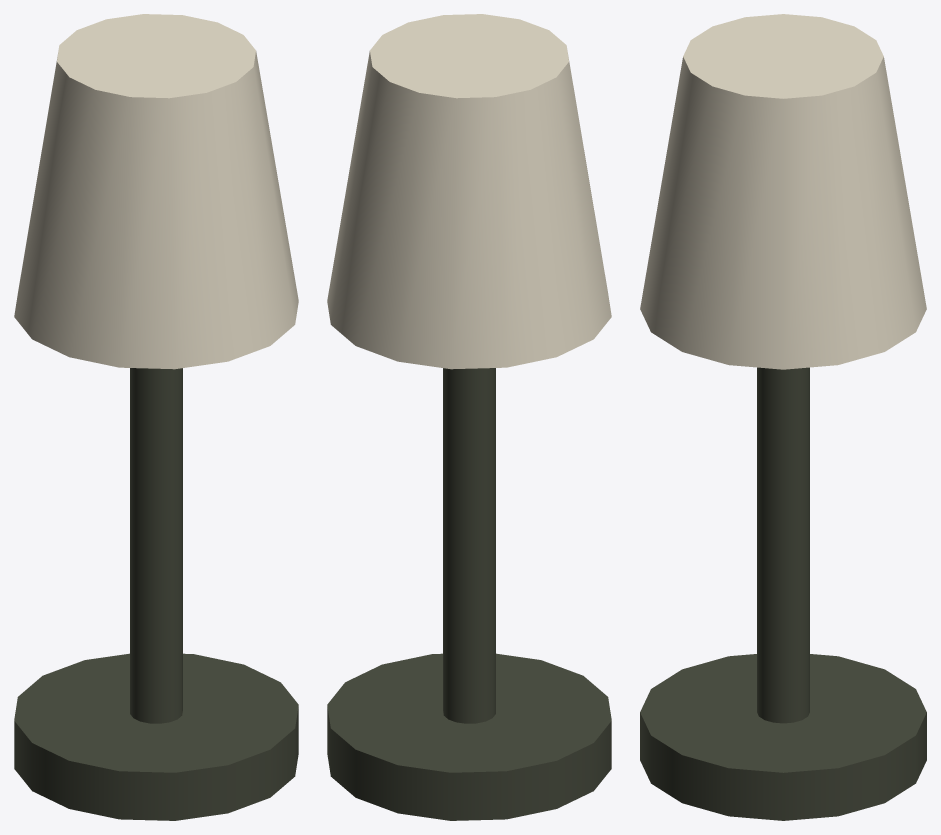
The model's file is lamp-back.glb.
3 renders of one model, left to right at view 1: azimuth 30°, elevation 25°; view 2: azimuth 150°, elevation 25°; view 3: azimuth 270°, elevation 25°, orthographic.
Visible parts, largest first — view 1: REF-L01-R01-lamp-back-part-3, REF-L01-R01-lamp-back-part-1, REF-L01-R01-lamp-back-part-2; view 2: REF-L01-R01-lamp-back-part-3, REF-L01-R01-lamp-back-part-1, REF-L01-R01-lamp-back-part-2; view 3: REF-L01-R01-lamp-back-part-3, REF-L01-R01-lamp-back-part-1, REF-L01-R01-lamp-back-part-2.
Part boxes in pixels (x1,y1,x2,y2): REF-L01-R01-lamp-back-part-3: (14, 14, 298, 369); REF-L01-R01-lamp-back-part-1: (14, 653, 298, 820); REF-L01-R01-lamp-back-part-2: (130, 368, 182, 723); REF-L01-R01-lamp-back-part-3: (327, 14, 611, 369); REF-L01-R01-lamp-back-part-1: (327, 653, 611, 820); REF-L01-R01-lamp-back-part-2: (443, 368, 495, 723); REF-L01-R01-lamp-back-part-3: (640, 14, 926, 369); REF-L01-R01-lamp-back-part-1: (640, 654, 926, 820); REF-L01-R01-lamp-back-part-2: (757, 367, 809, 723).
Bounding box in the file's own units: 0.054 × 0.1462 × 0.054.
